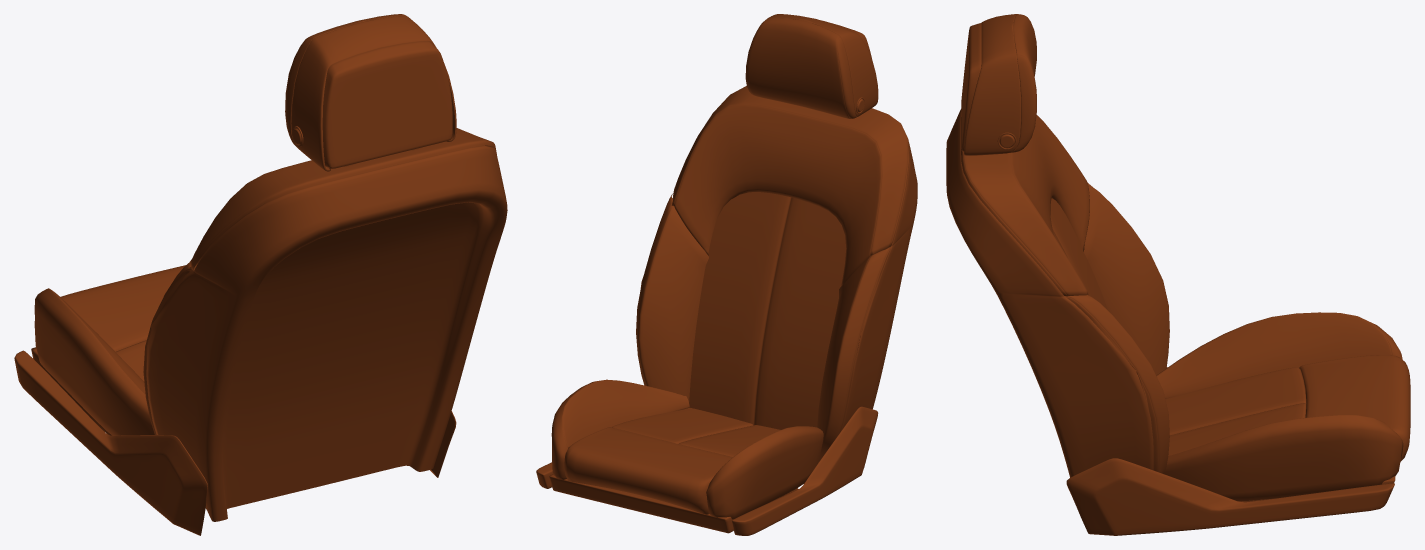
The model's file is seat5.glb.
3 views of the same model, side by side, from view 1: azimuth 30°, elevation 25°; view 2: azimuth 150°, elevation 25°; view 3: azimuth 270°, elevation 25° (orthographic). The views are drawn at different scales.
Parts seen in each view (by area): view 1: leather_armrest.025, leather_armrest.036, leather_armrest.022, leather_armrest.019, leather_armrest.035, leather_armrest.020; view 2: leather_armrest.025, leather_armrest.026, leather_armrest.020, leather_armrest.035, leather_armrest.019, leather_armrest.023, leather_armrest.022, leather_armrest.021; view 3: leather_armrest.025, leather_armrest.023, leather_armrest.020, leather_armrest.024, leather_armrest.019, leather_armrest.035, leather_armrest.026, leather_armrest.036.
Boxes of the visible parts, box(x1,y1,x2,y2) form: leather_armrest.025: box(143, 128, 507, 521); leather_armrest.036: box(322, 41, 452, 168); leather_armrest.022: box(14, 350, 207, 535); leather_armrest.019: box(34, 288, 154, 435); leather_armrest.035: box(285, 14, 456, 171); leather_armrest.020: box(61, 265, 185, 381); leather_armrest.025: box(636, 86, 917, 461); leather_armrest.026: box(689, 192, 846, 429); leather_armrest.020: box(564, 408, 818, 514); leather_armrest.035: box(745, 14, 878, 118); leather_armrest.019: box(706, 426, 823, 519); leather_armrest.023: box(551, 379, 689, 479); leather_armrest.022: box(732, 406, 878, 535); leather_armrest.021: box(549, 474, 798, 533); leather_armrest.025: box(946, 109, 1169, 477); leather_armrest.023: box(1153, 415, 1403, 501); leather_armrest.020: box(1165, 355, 1410, 461); leather_armrest.024: box(1066, 458, 1394, 535); leather_armrest.019: box(1156, 312, 1402, 398); leather_armrest.035: box(964, 14, 1036, 155); leather_armrest.026: box(1050, 198, 1107, 309); leather_armrest.036: box(961, 23, 981, 151).
Bounding box in the file's own units: 522 × 912 × 840.
